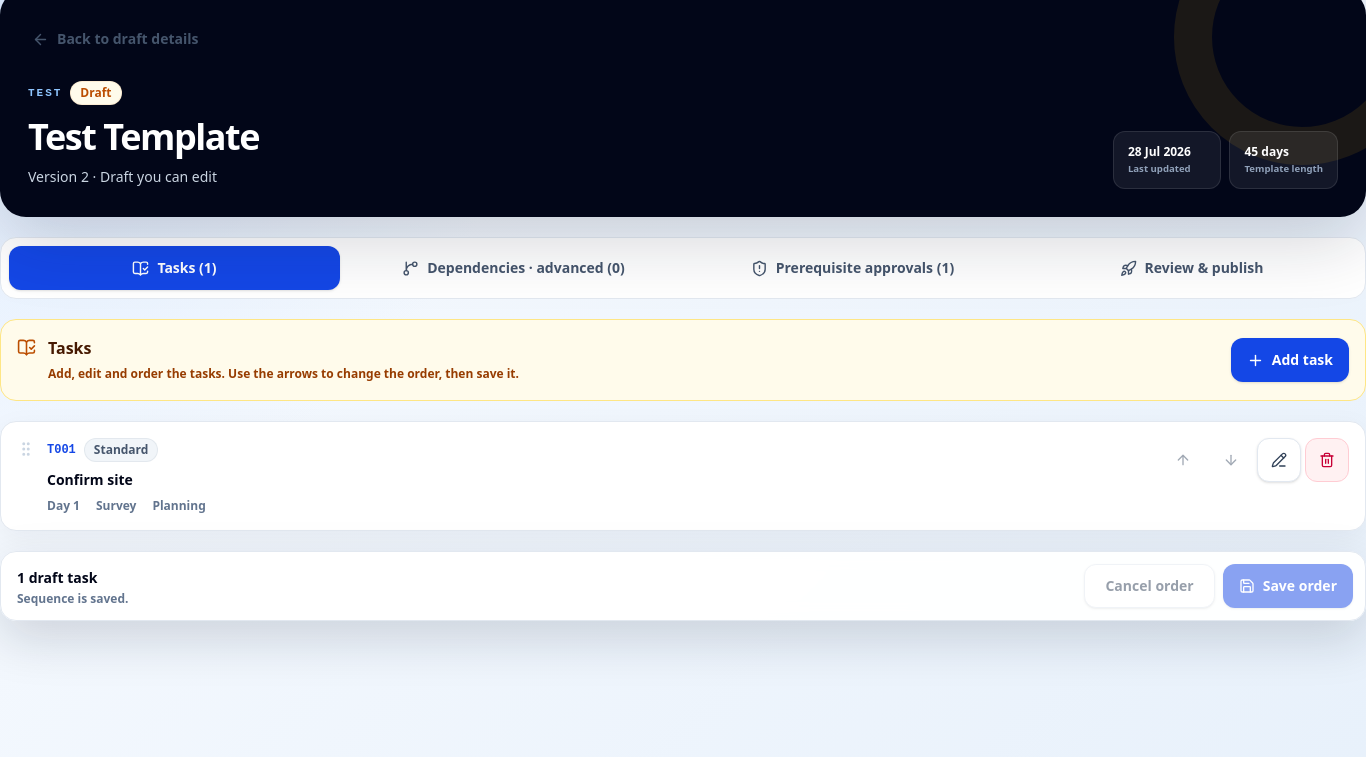
it: review and publish › separates must-fix problems from warnings and explains each in plain words
The width and height of the screenshot is (1366, 757).
Expected: the element with test id "draft-task-T001" is shown, [0, 421, 1365, 531]
Click the button "Review & publish" at (1192, 268), box [1026, 246, 1357, 290]
(page scrolled)
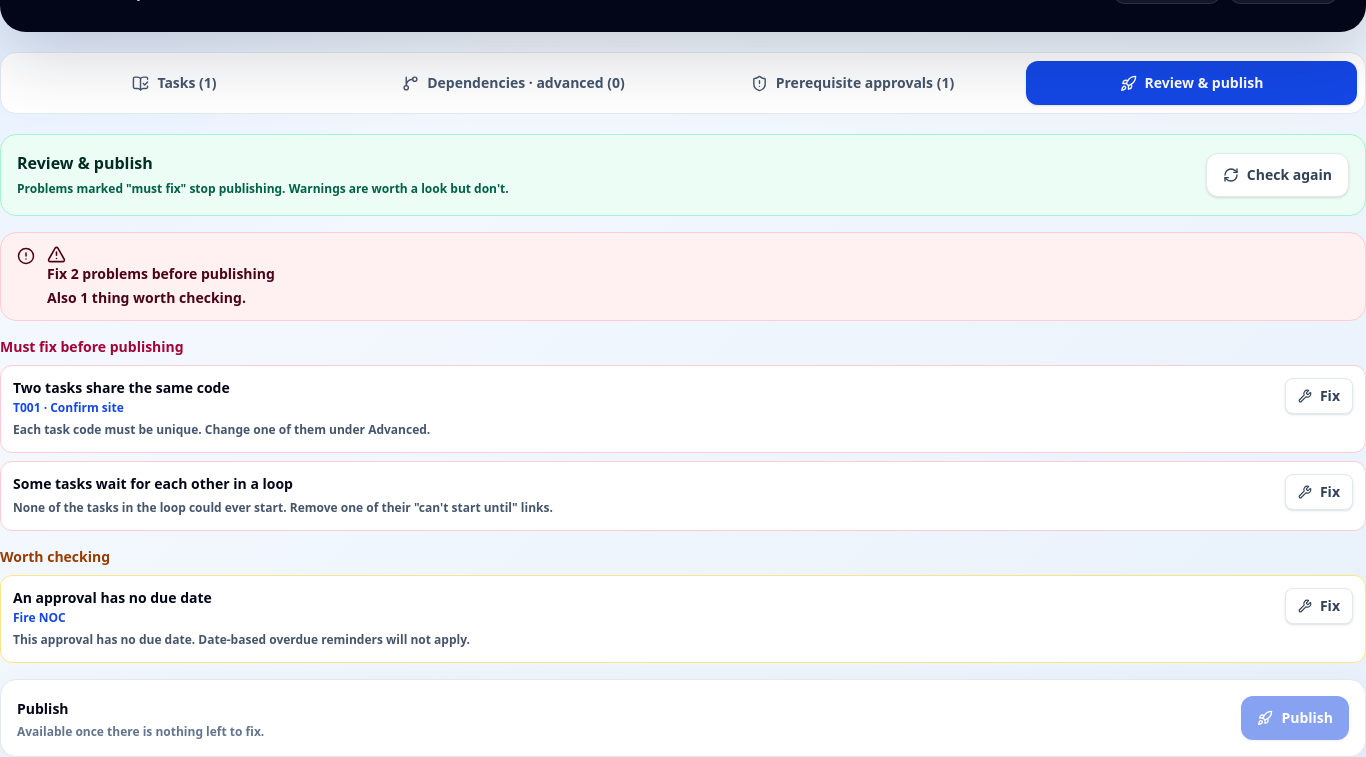
Result: the text "Two tasks share the same code" is shown at [13, 378, 230, 397]
Result: the text "T001 · Confirm site" is shown at [13, 399, 124, 416]
Result: the text "Some tasks wait for each other in a loop" is shown at [13, 474, 293, 493]
